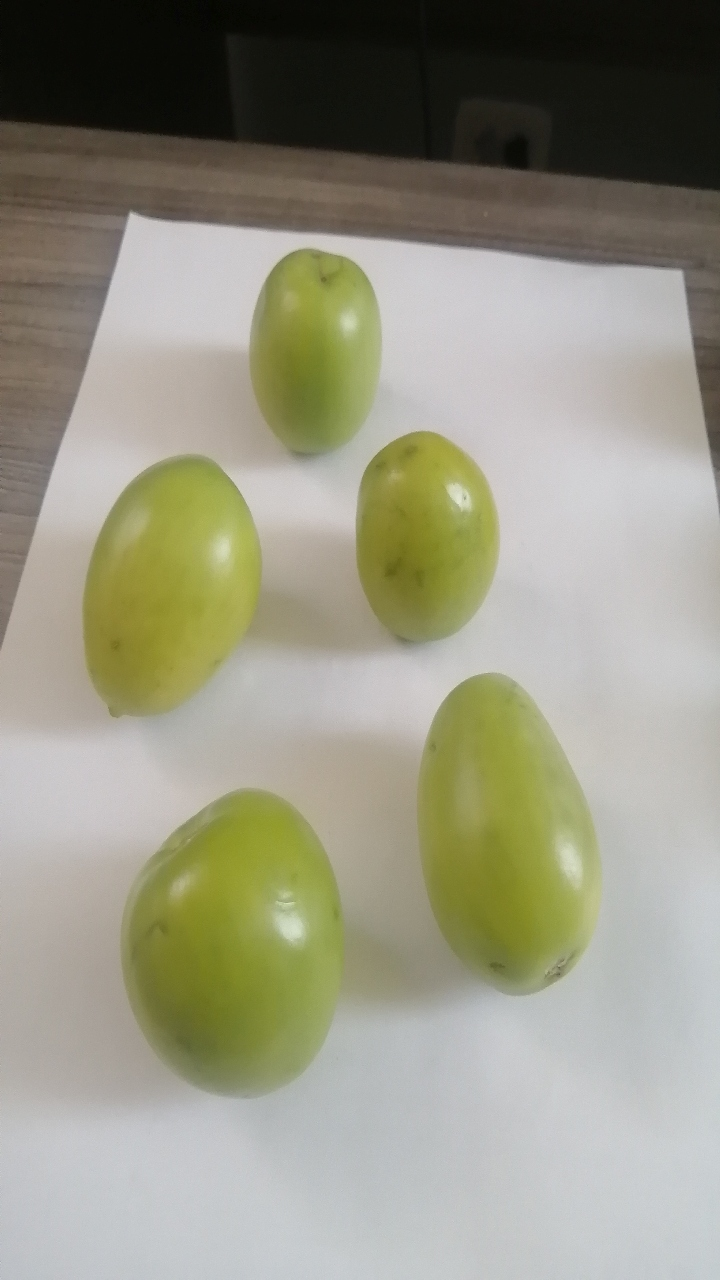tomateVerde: (98, 775, 371, 1122), (384, 654, 626, 1011), (57, 440, 272, 737), (229, 228, 417, 491), (337, 423, 514, 652)
